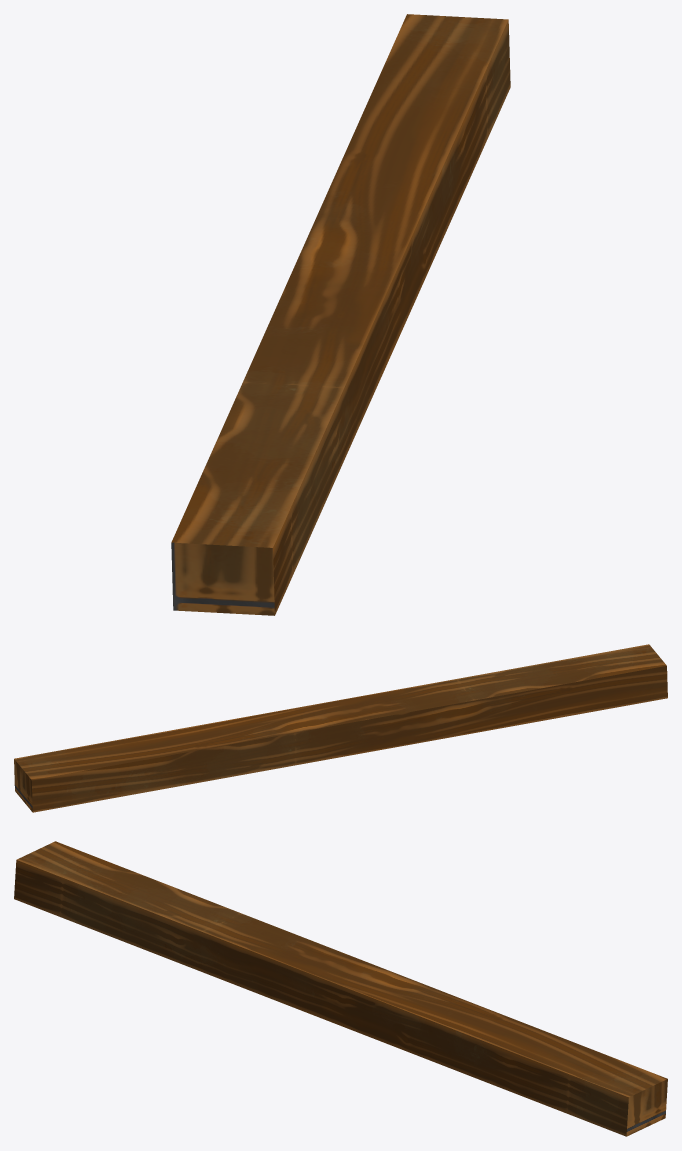
3 views of the same model, one above another, from view 1: azimuth 30°, elevation 25°; view 2: azimuth 150°, elevation 25°; view 3: azimuth 270°, elevation 25° (orthographic). The views are drawn at different scales.
Visible parts, largest first — view 1: Cube.2086; view 2: Cube.2086; view 3: Cube.2086.
Boxes of the visible parts, box(x1,y1,x2,y2) form: Cube.2086: box(171, 14, 510, 615); Cube.2086: box(14, 644, 667, 812); Cube.2086: box(14, 841, 667, 1136).
Bounding box in the file's own units: 384 × 45.74 × 447.
Materials: 1 (1 with a texture image).
